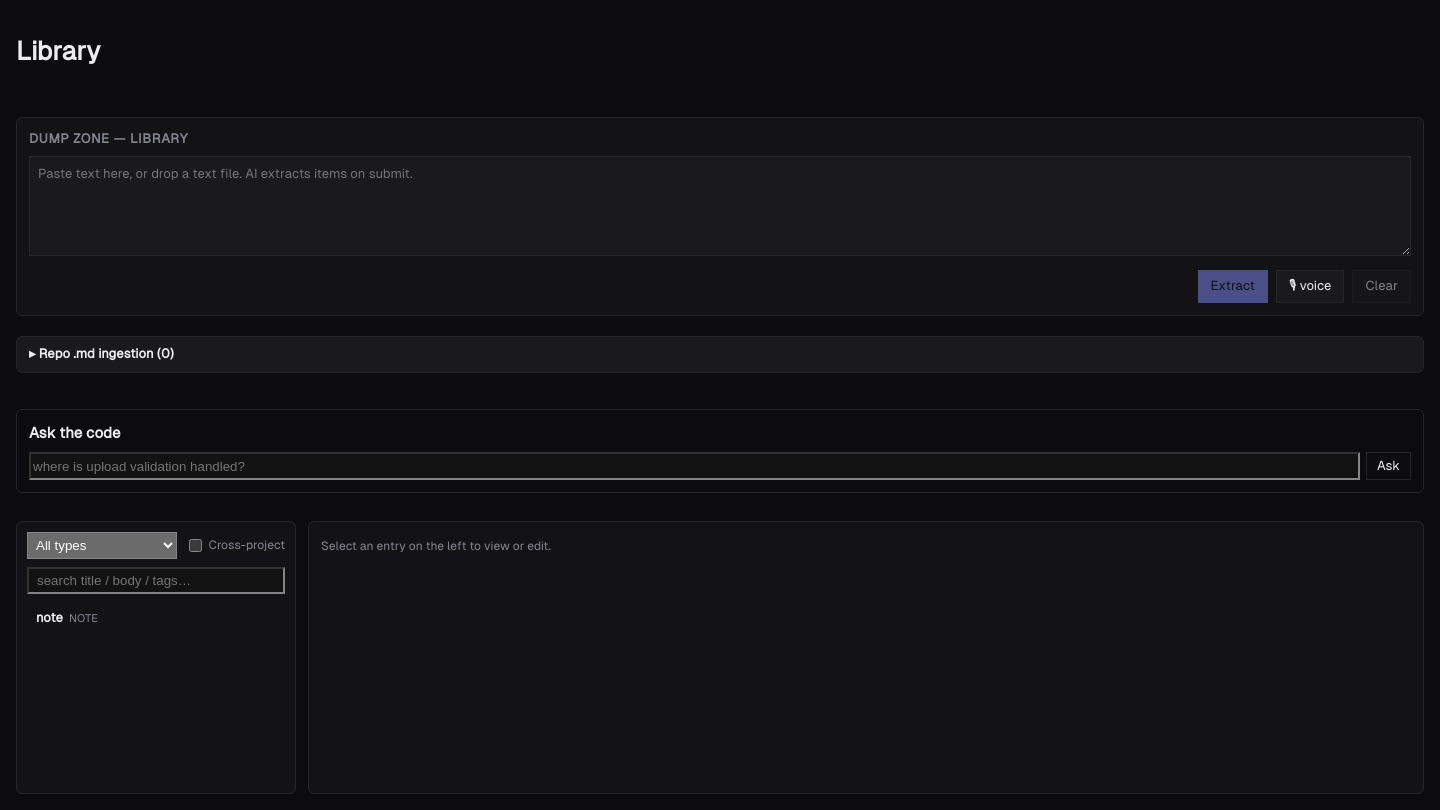
Scenario: LibraryView › attached items section renders for selected notes
Click the list item with test id "library-entry-row-n1" at (67, 618), box 36,610 -> 98,626
(page scrolled)
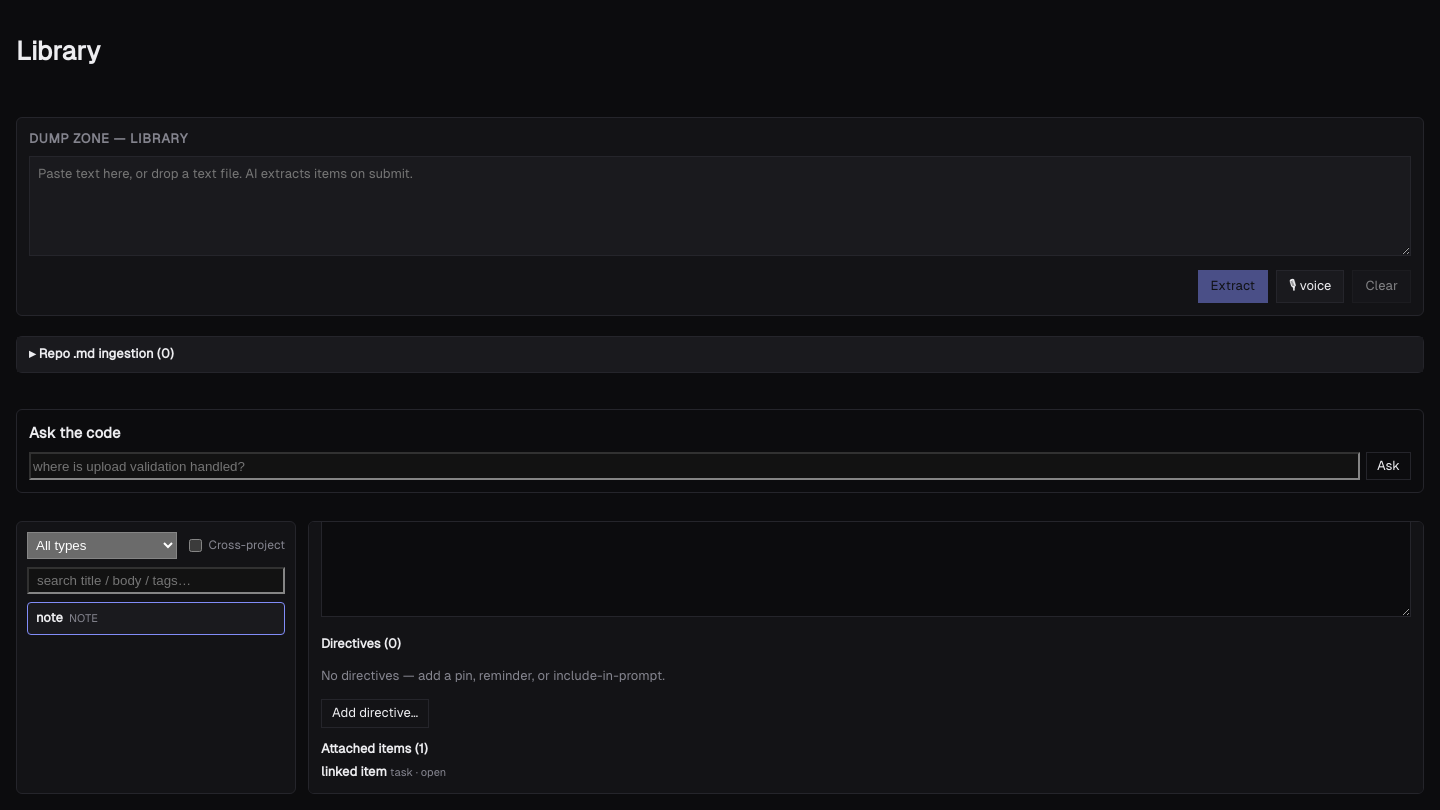
Expected: the element with test id "library-attached-items" is shown, 321,741 -> 446,779
Expected: the text "linked item" is shown, 321,764 -> 387,779
